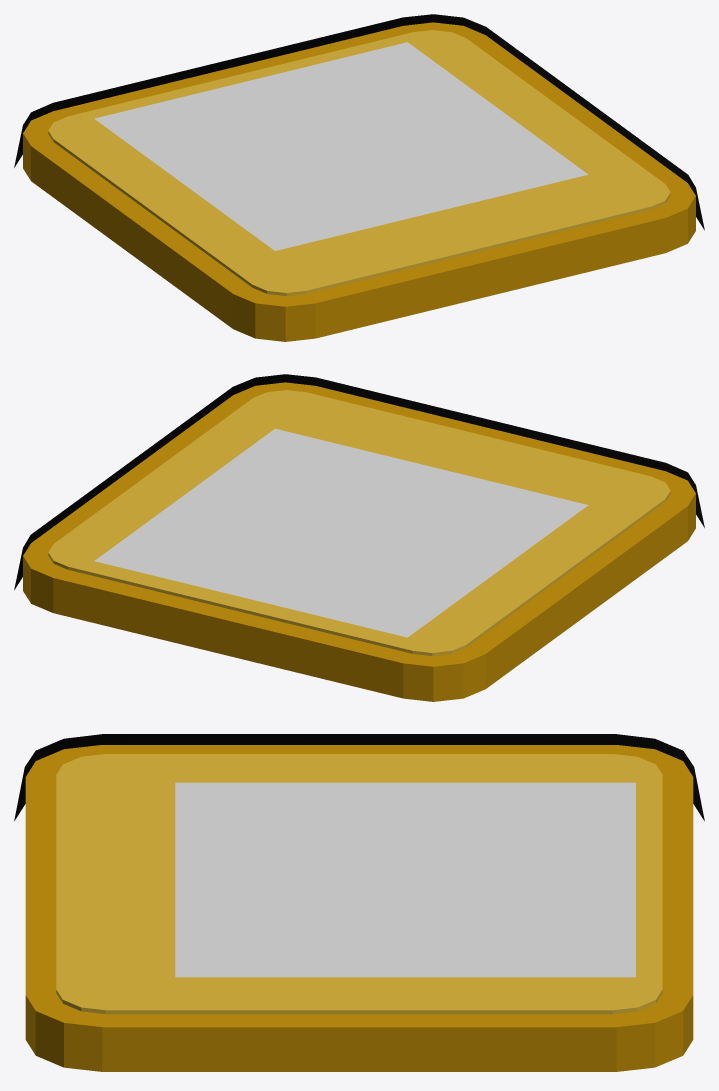
File: BR_Feld_Ziel.glb
3 views of the same model, one above another, from view 1: azimuth 30°, elevation 25°; view 2: azimuth 150°, elevation 25°; view 3: azimuth 270°, elevation 25° (orthographic). The views are drawn at different scales.
Parts seen in each view (by area): view 1: BR_Feld_Ziel_Mesh, BR_Feld_Ziel_Outline; view 2: BR_Feld_Ziel_Mesh, BR_Feld_Ziel_Outline; view 3: BR_Feld_Ziel_Mesh, BR_Feld_Ziel_Outline.
Part boxes in pixels (x1,y1,x2,y2): BR_Feld_Ziel_Mesh: (23, 22, 695, 341); BR_Feld_Ziel_Outline: (14, 14, 704, 230); BR_Feld_Ziel_Mesh: (23, 382, 695, 701); BR_Feld_Ziel_Outline: (14, 374, 704, 590); BR_Feld_Ziel_Mesh: (25, 745, 693, 1071); BR_Feld_Ziel_Outline: (14, 734, 704, 821).
Bounding box in the file's own units: 1.8 × 0.1588 × 1.8.
